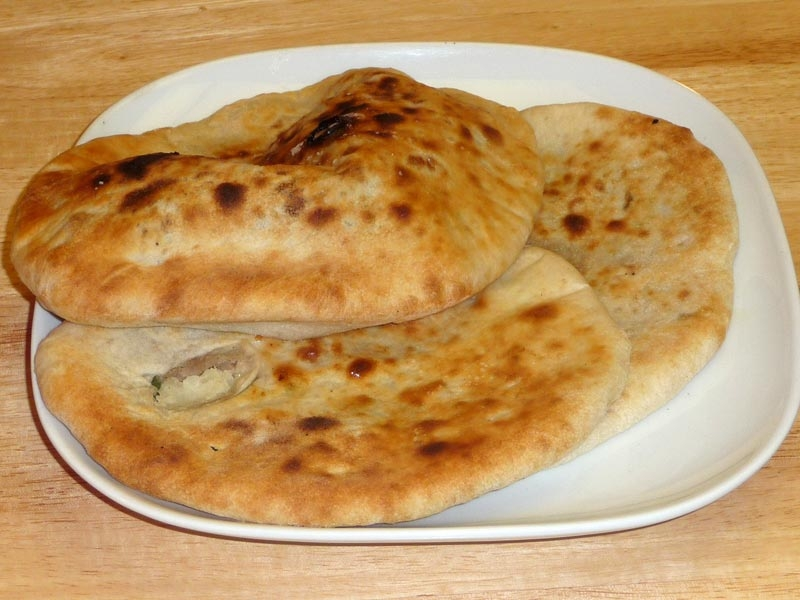aloo_paratha: (9, 68, 747, 522)
